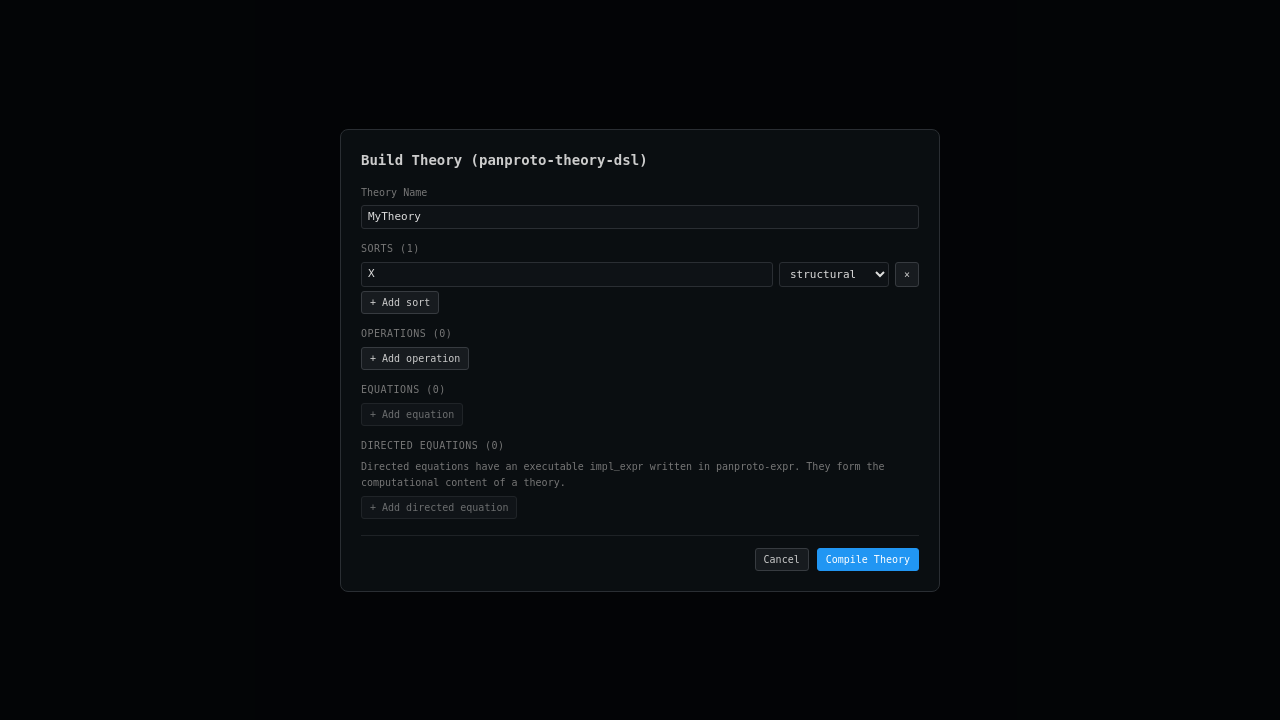
TheoryEditor › add equation row
Replace the text in the 2nd field with placeholder "name" with "S" at (567, 274), box [361,262,773,286]
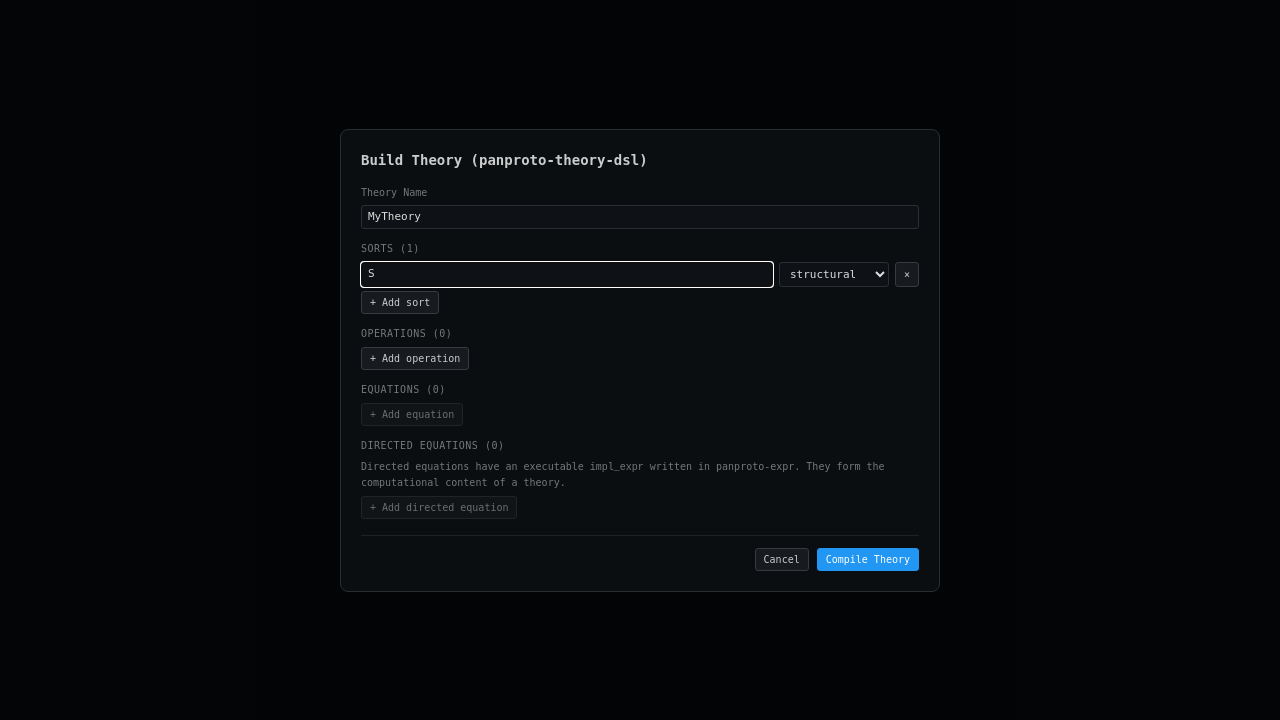
Click the button "+ Add operation" at (415, 358), box [361,346,469,370]
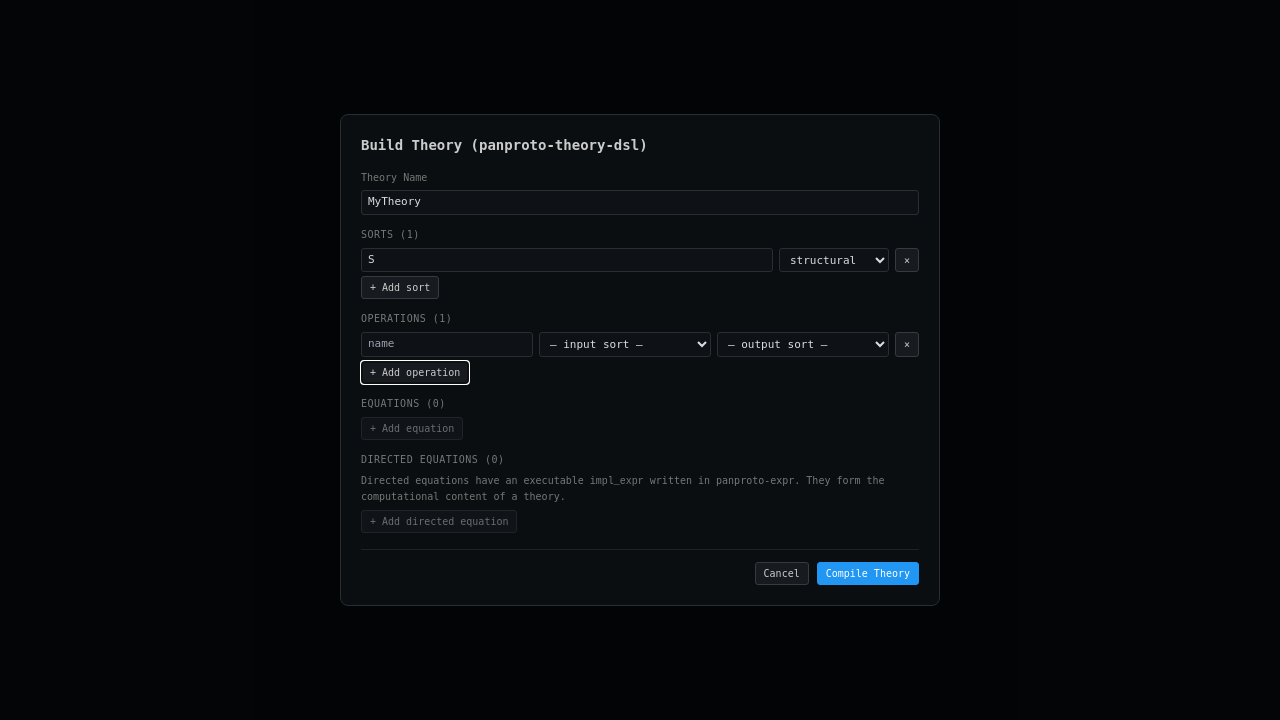
Type "op1" into the field with placeholder "name" at (447, 345), box [361,332,533,357]
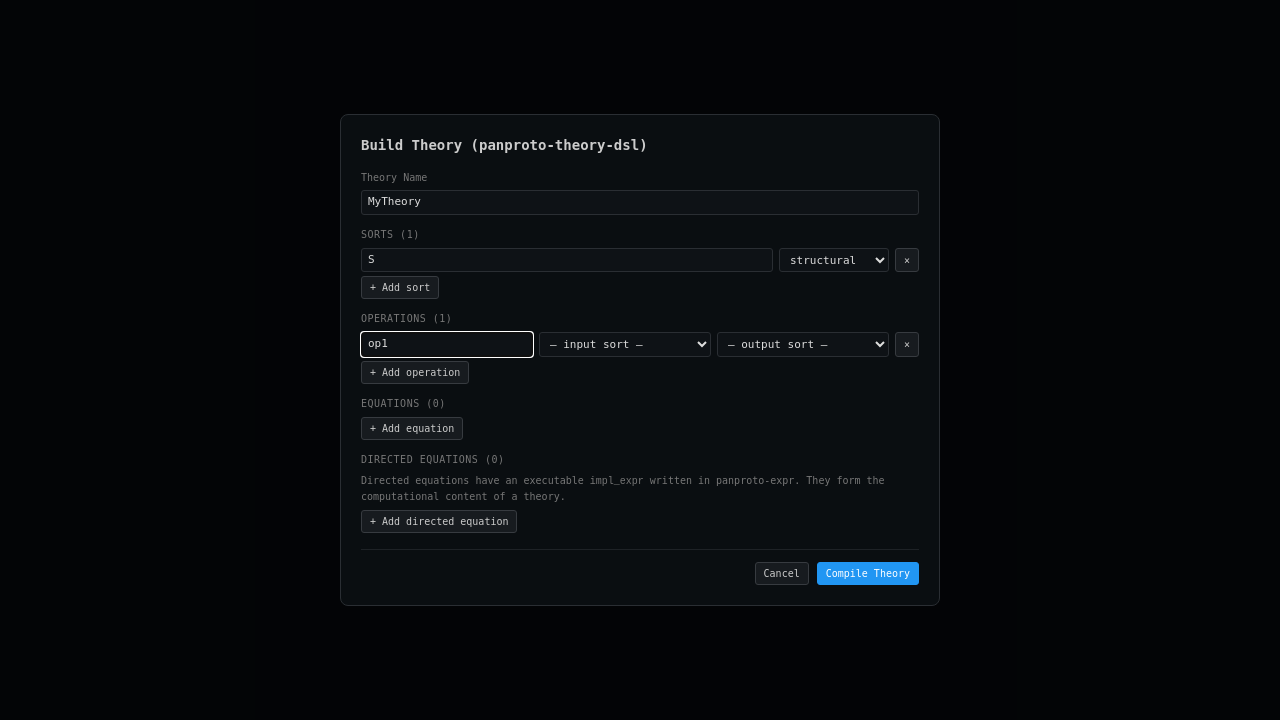
Click the button "+ Add equation" at (412, 428), box [361,417,463,440]
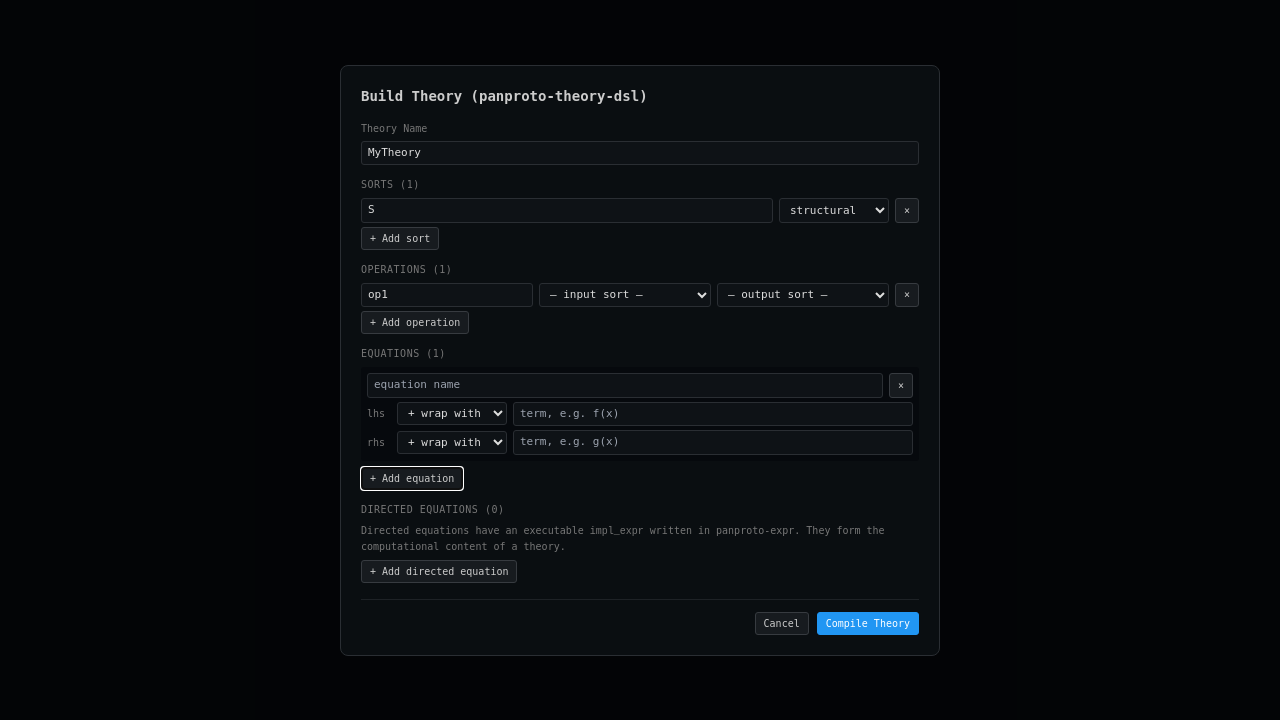
Now the text "Equations (1)" is shown, box [361,348,446,359]
